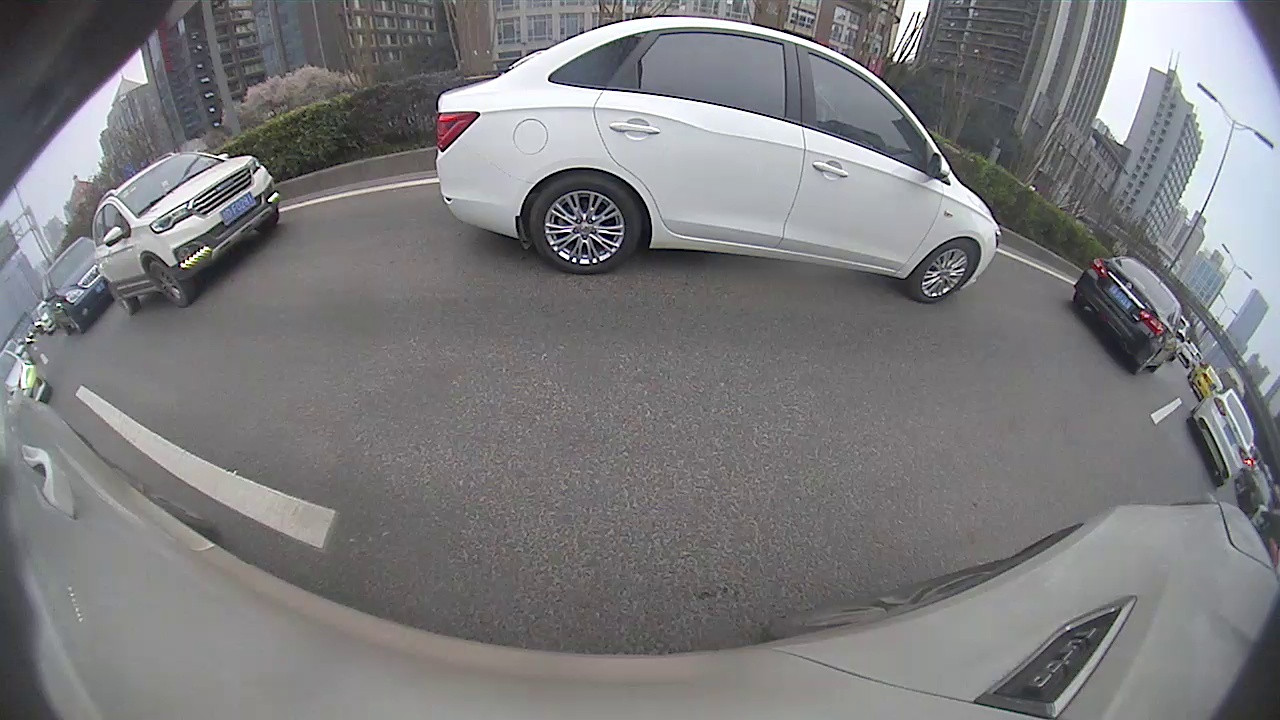car: (434, 18, 1003, 307), (91, 149, 281, 317), (1074, 257, 1185, 376), (1186, 389, 1258, 487)
front: (913, 237, 977, 301), (145, 263, 191, 307)
rear: (534, 180, 642, 276)
